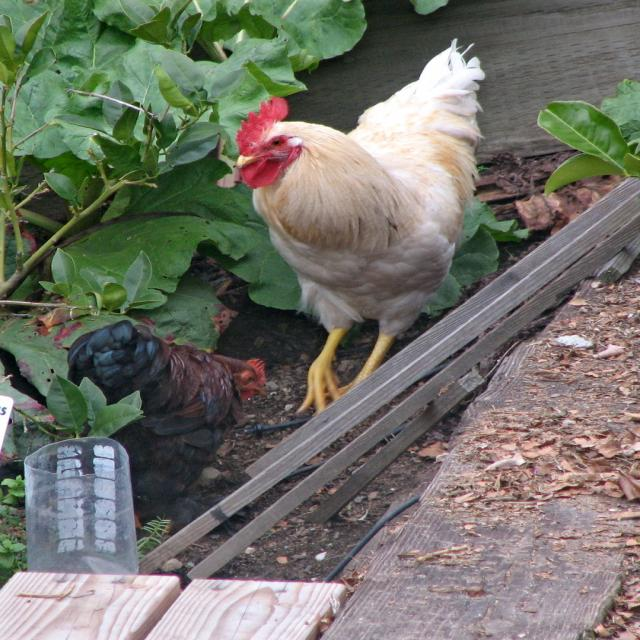Chicken: (225, 50, 497, 394)
